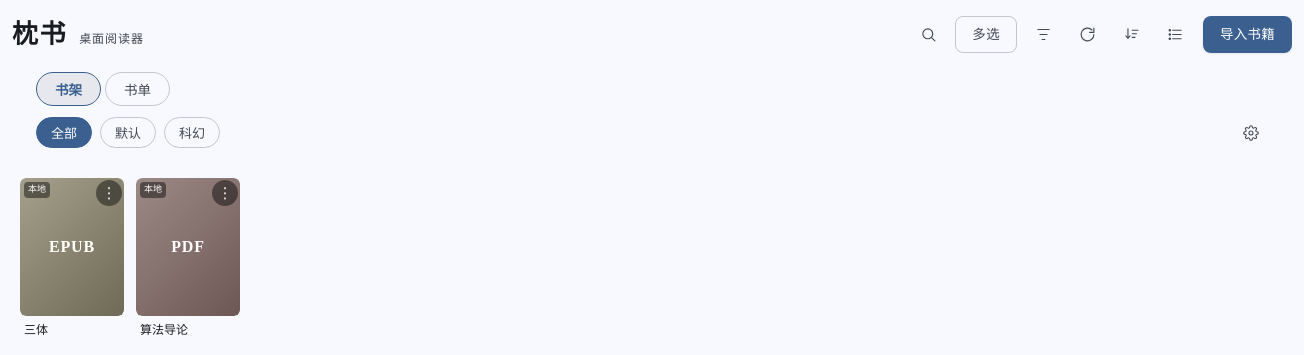
Test: LibraryPage 分组/多选/书单 › shows group chips and filters by group
The width and height of the screenshot is (1304, 355).
Expected: the text "三体" is shown, [24,321,48,338]
What coordinates should you click on to do the following:
click the button "科幻"
I would click on:
 (192, 133)
Its box is [164,117,220,148].
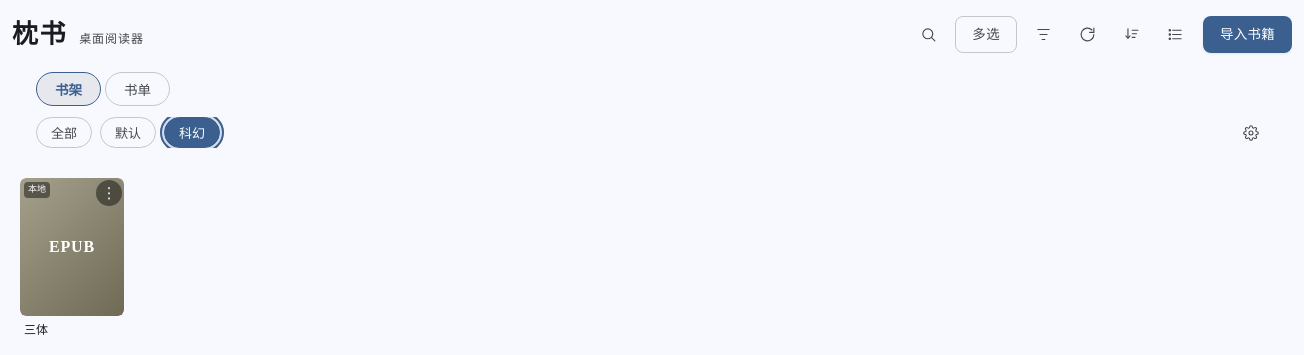
Expected: the text "三体" is shown, [24,321,48,338]
Result: the button "算法导论" is gone
What coordinates should you click on to do the following:
click the button "默认"
I would click on:
 (128, 133)
Its box is [100,117,156,148].
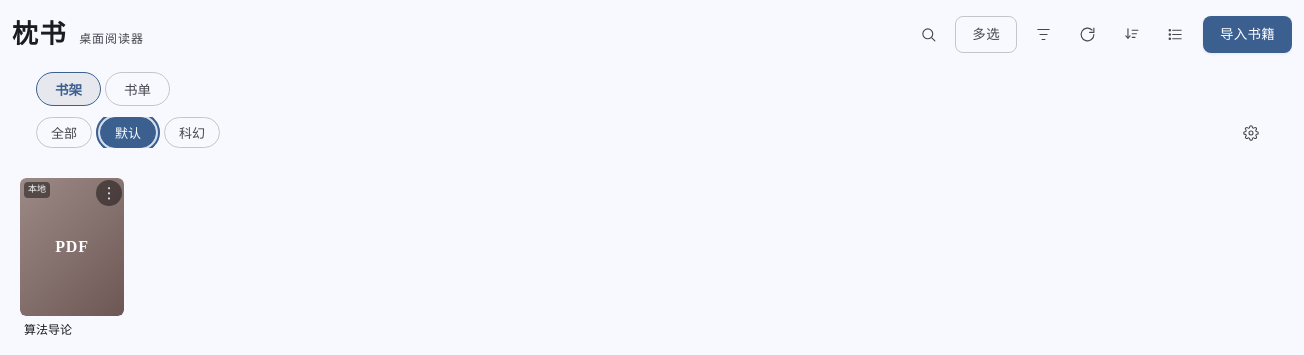
Result: the button "三体" is gone
Result: the text "算法导论" is shown at [24,321,72,338]
